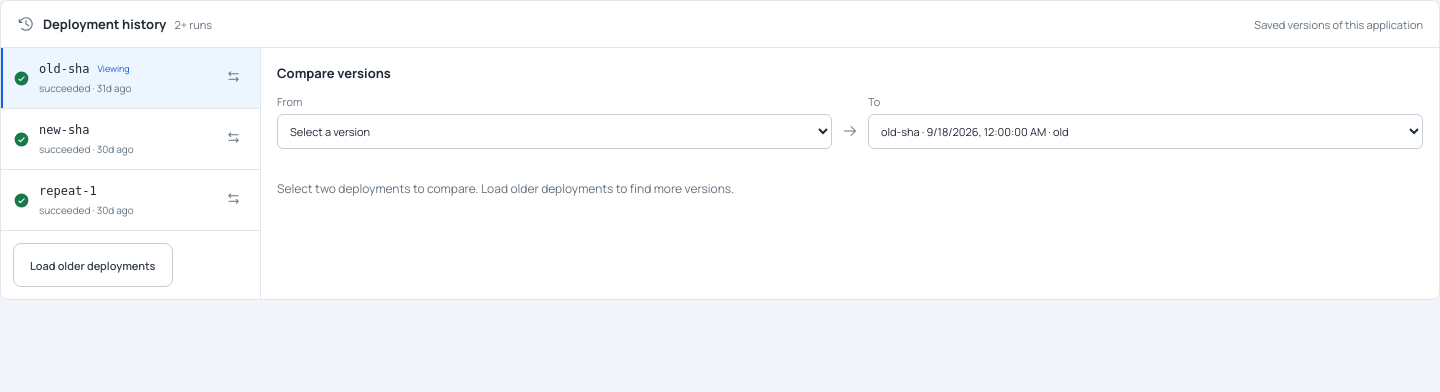
Test: shows a deep-linked run outside the loaded page and retains explicit comparison choices after loading more
Expected: the link "old-sha Viewing" is shown, [39, 62, 130, 76]
Select "new-sha · 9/19/2026, 12:00:00 AM · new" in the dropdown named "Compare from deployment" at coordinates (554, 132), box [277, 114, 832, 149]
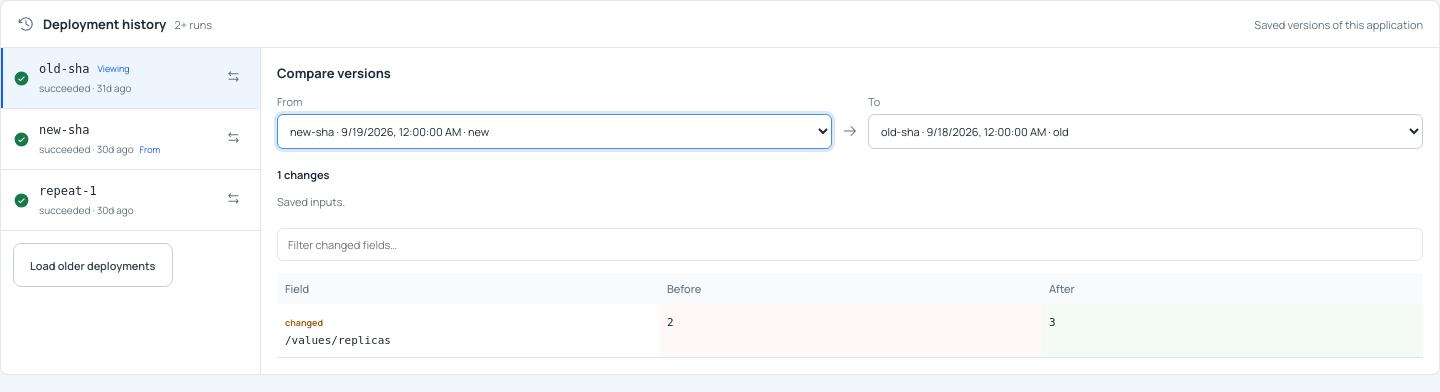
Click the button "Load older deployments".
click(93, 265)  # box [13, 243, 172, 287]
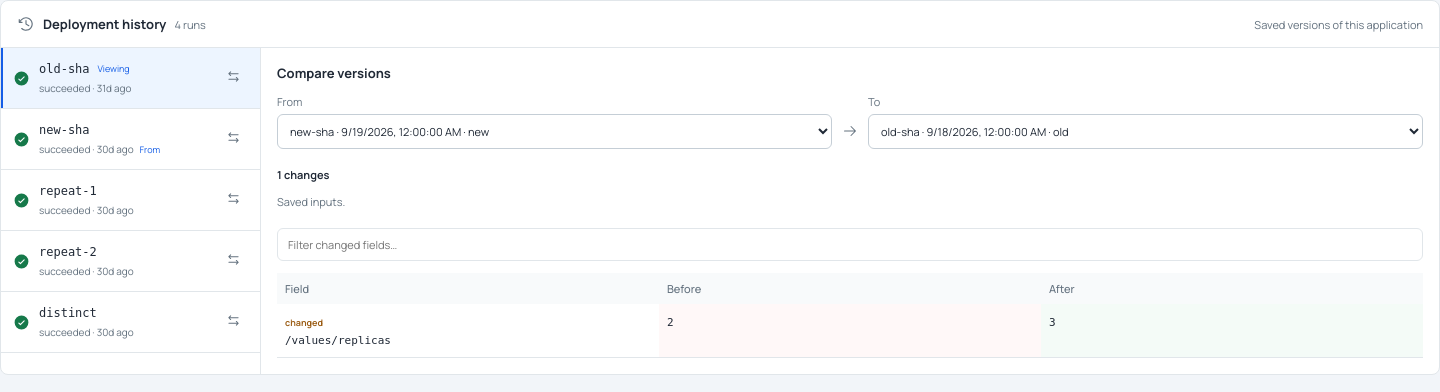
Expected: the link "old-sha Viewing" is shown, [39, 62, 130, 76]
Result: the link "distinct" is shown at [39, 306, 97, 320]
